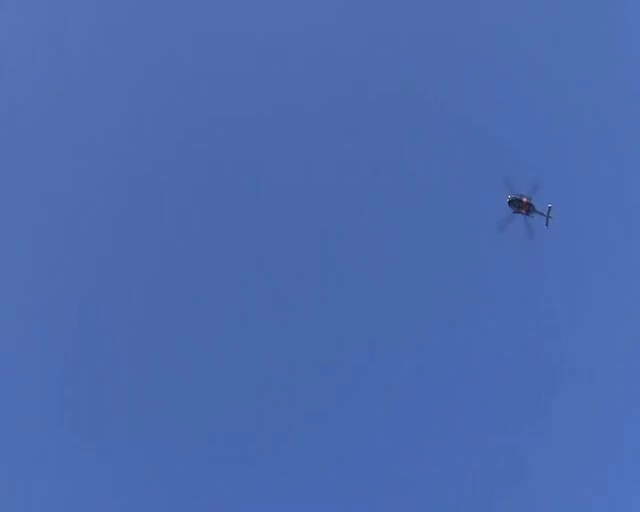HELICOPTER: (503, 170, 553, 227)
